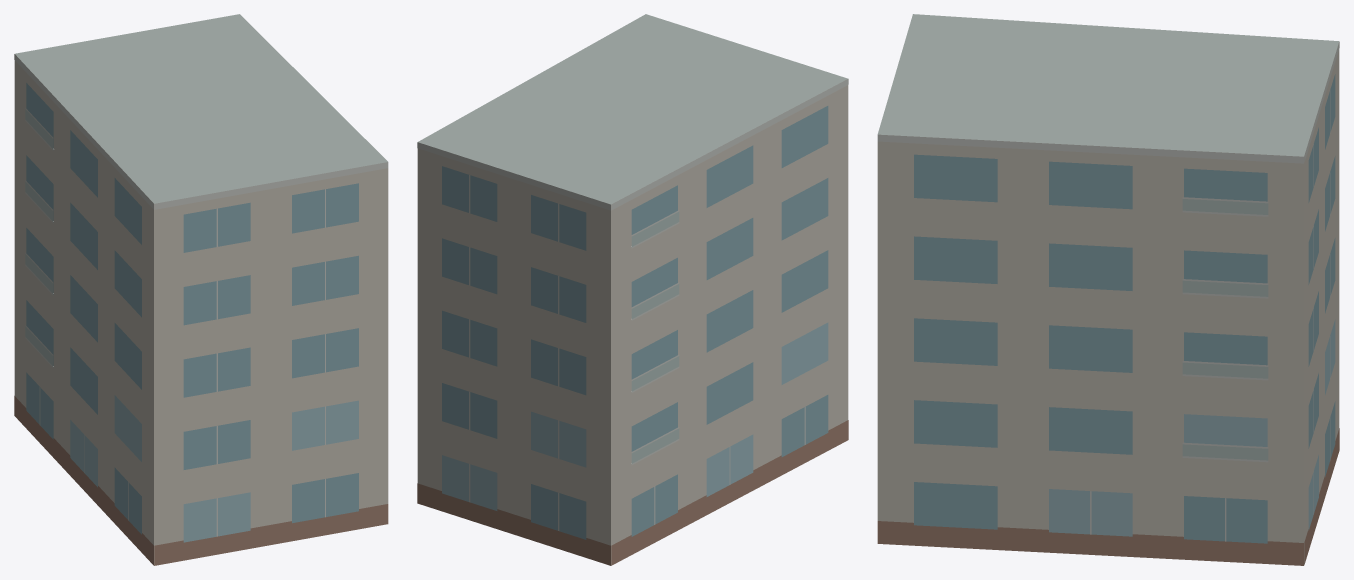
Rendered from survey-upis-32499601.glb.
3 views of the same model, side by side, from view 1: azimuth 30°, elevation 25°; view 2: azimuth 150°, elevation 25°; view 3: azimuth 270°, elevation 25° (orthographic). The views are drawn at different scales.
Parts seen in each view (by area): view 1: survey-upis-32499601.tmp; view 2: survey-upis-32499601.tmp; view 3: survey-upis-32499601.tmp.
Boxes of the visible parts, x1=… form: survey-upis-32499601.tmp: x1=14, y1=14, x2=388, y2=565; survey-upis-32499601.tmp: x1=417, y1=14, x2=848, y2=565; survey-upis-32499601.tmp: x1=877, y1=14, x2=1339, y2=565.
Size of the model in its own units: 10.78 by 14.4 by 14.74.
